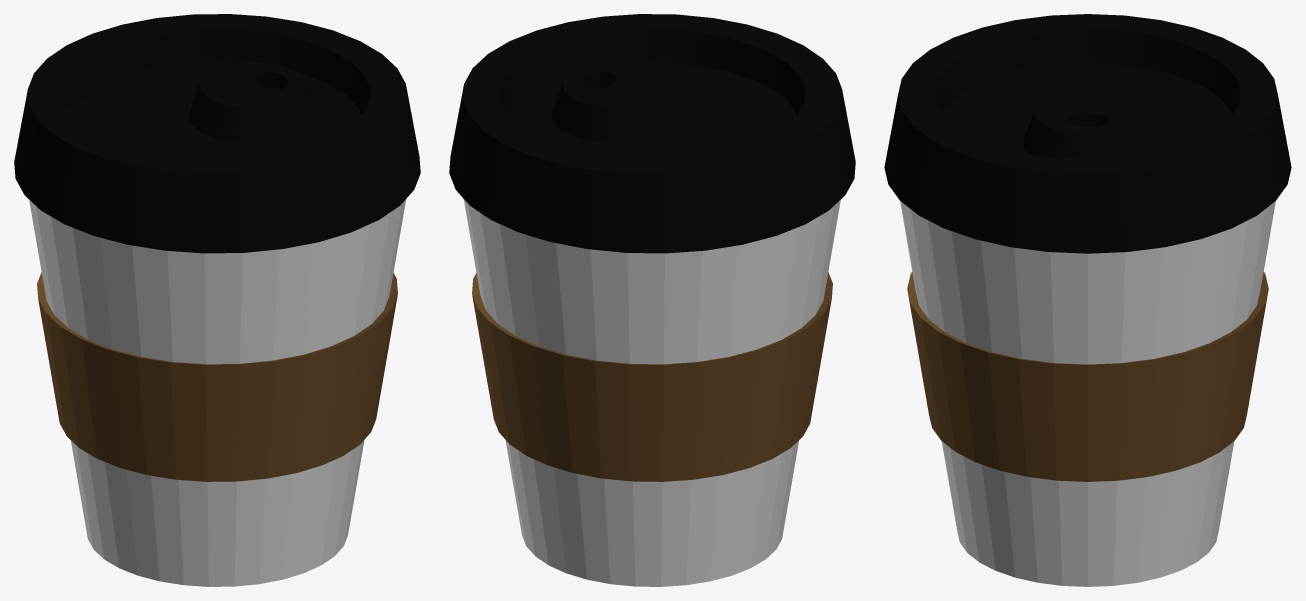
Rendered from CoffeeCup.glb.
The picture shows the model from 3 angles, left to right: view 1: azimuth 30°, elevation 25°; view 2: azimuth 150°, elevation 25°; view 3: azimuth 270°, elevation 25°; orthographic projection.
Parts seen in each view (by area): view 1: Cylinder; view 2: Cylinder; view 3: Cylinder.
Part boxes in pixels (x1=…): Cylinder: x1=14, y1=14, x2=420, y2=586; Cylinder: x1=449, y1=14, x2=855, y2=586; Cylinder: x1=884, y1=14, x2=1291, y2=586.
Size of the model in its own units: 2 by 2.37 by 2.
